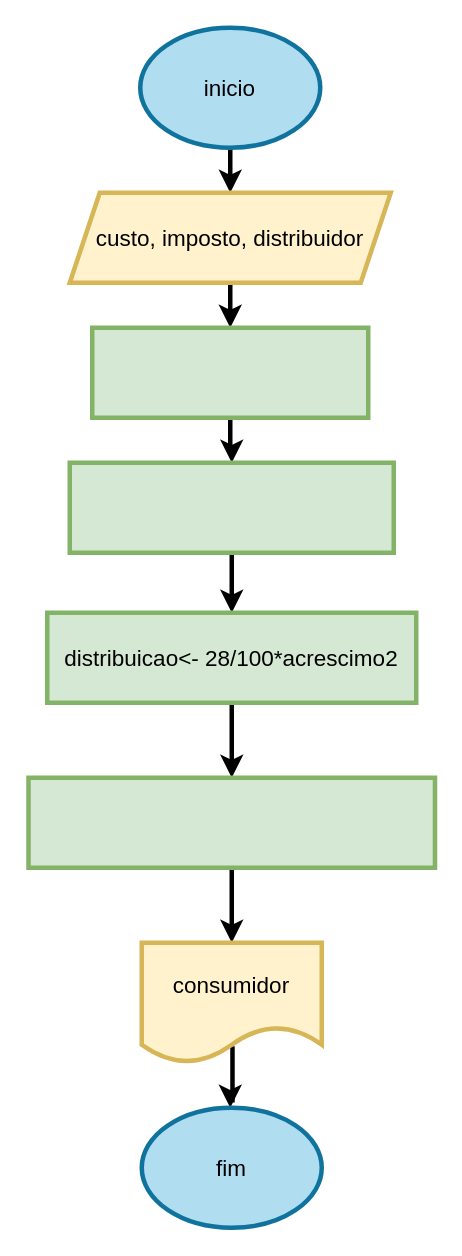
This 462x1256 diagram has some shape labels left out. The shapes that lost their labels are listed below. From the top down, each one's centre as x and y in pixels, then its label:
At point 229,372: "acrescimo<- 45/100*custo".
At point 231,507: "acrescimo2<- custo+acrescimo".
At point 231,822: "consumidor<- acrescimo2+distribuicao".
